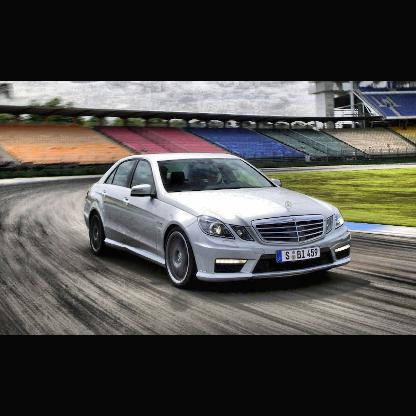Mercedes-Benz E-Class Sedan 2012: (86, 152, 353, 295)
